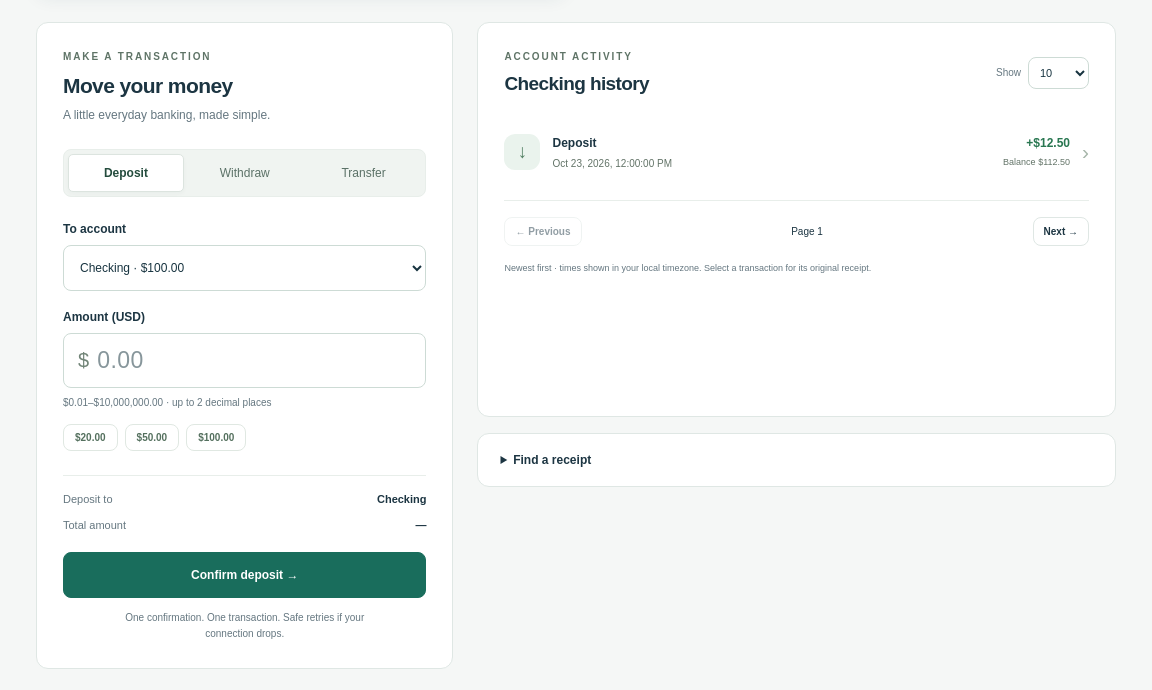
Test: shows definitive server failures, trace and field errors and unlocks the form
(page scrolled)
Expected: the button "Confirm deposit →" is enabled, [63,552,426,598]
In the field labelled "Amount (USD)": (261, 360) [97,334,426,387], type "12.50"
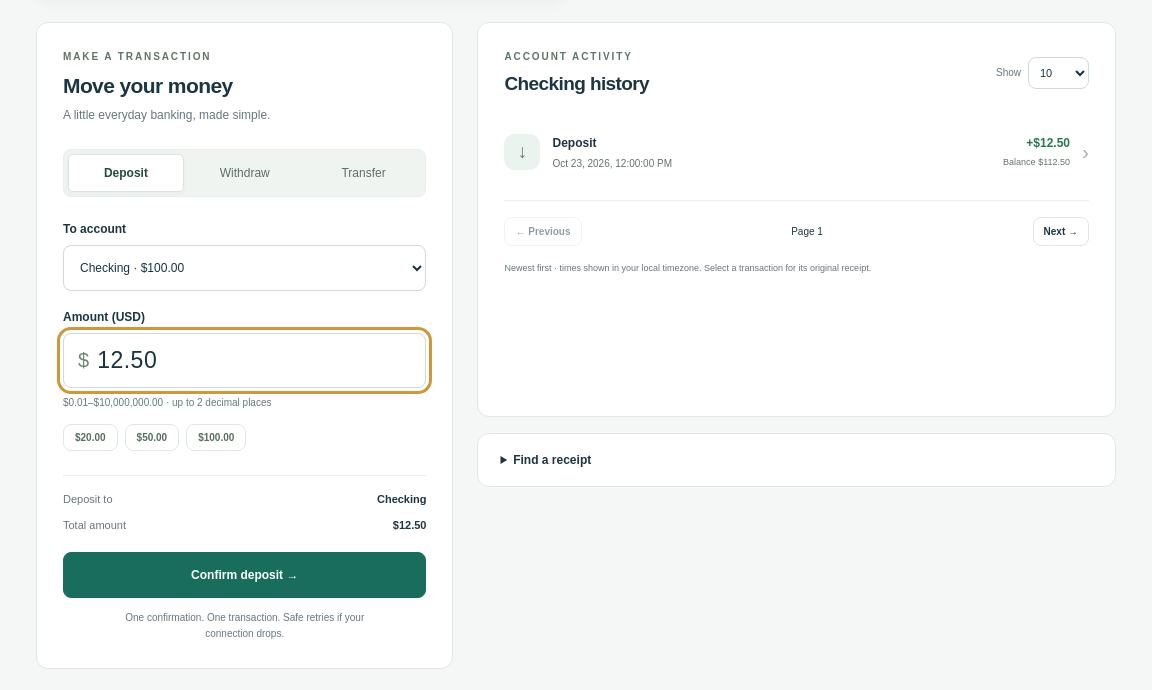
Click the button "Confirm deposit →": click(245, 575) [63,552,426,598]
(page scrolled)
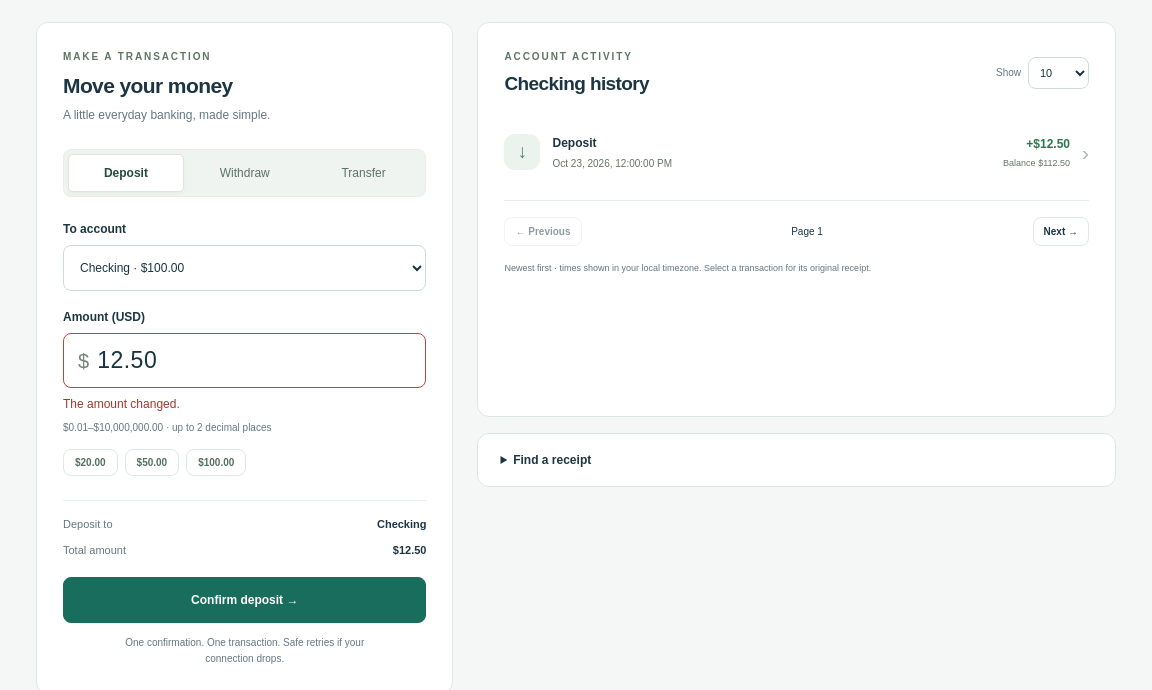
Expected: the field labelled "Amount (USD)" is enabled, [97,334,426,387]
Expected: the text "The amount changed." is shown, [63,397,180,411]
